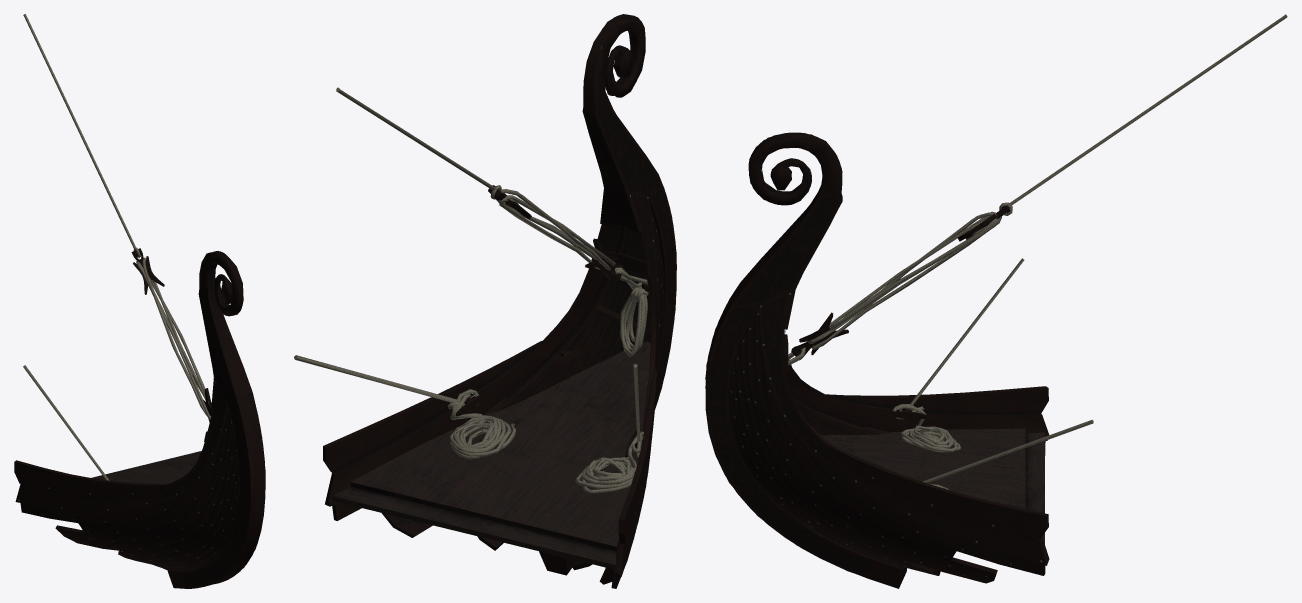
File: ship_stem_bow.glb
3 views of the same model, side by side, from view 1: azimuth 30°, elevation 25°; view 2: azimuth 150°, elevation 25°; view 3: azimuth 270°, elevation 25° (orthographic). The views are drawn at different scales.
Visible parts, largest first — view 1: defaultMaterial; view 2: defaultMaterial; view 3: defaultMaterial.
Part boxes in pixels (left/top/right/bottom): defaultMaterial: left=14, top=14, right=265, bottom=588; defaultMaterial: left=294, top=14, right=676, bottom=588; defaultMaterial: left=705, top=14, right=1287, bottom=588.
Size of the model in its own units: 0.7433 by 1.51 by 1.39.
1 material, 1 textured.
